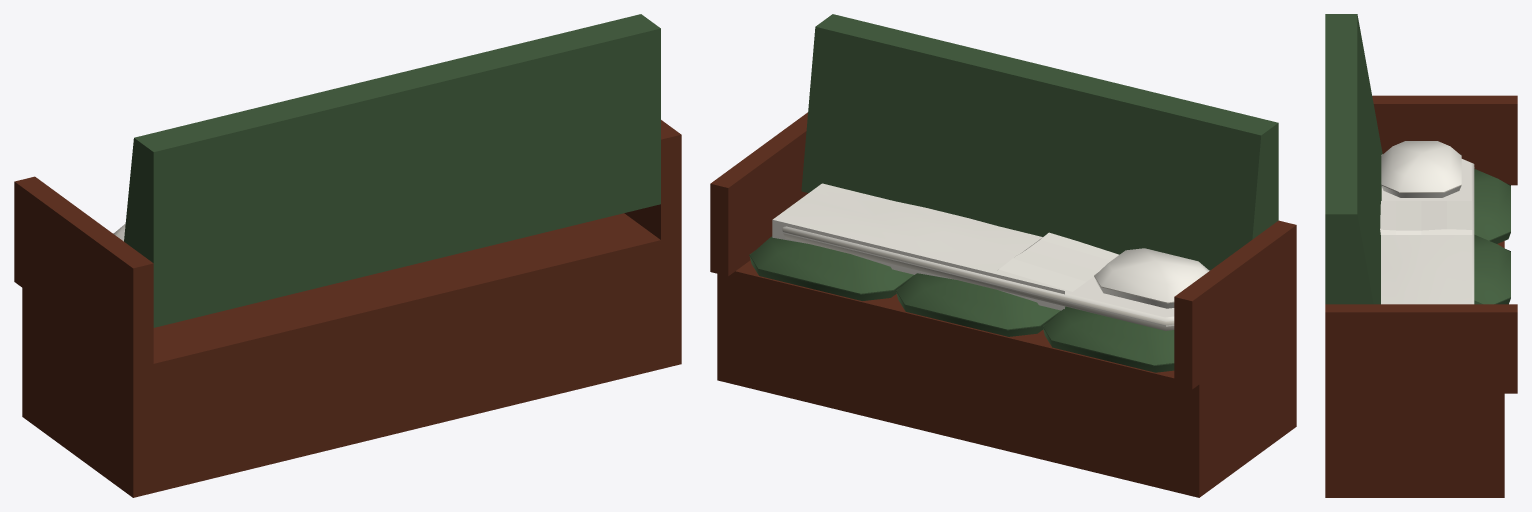
The picture shows the model from 3 angles, left to right: view 1: azimuth 30°, elevation 25°; view 2: azimuth 150°, elevation 25°; view 3: azimuth 270°, elevation 25°; orthographic projection. The views are drawn at different scales.
Parts seen in each view (by area): view 1: parametric-variant-settee-1st-97428b18e5b095def483; view 2: parametric-variant-settee-1st-97428b18e5b095def483; view 3: parametric-variant-settee-1st-97428b18e5b095def483.
Boxes of the visible parts, x1,y1,x2,y2 form: parametric-variant-settee-1st-97428b18e5b095def483: [14, 14, 681, 497]; parametric-variant-settee-1st-97428b18e5b095def483: [710, 14, 1296, 497]; parametric-variant-settee-1st-97428b18e5b095def483: [1325, 14, 1517, 497].
Bounding box in the file's own units: 1.6 × 0.95 × 0.6.
